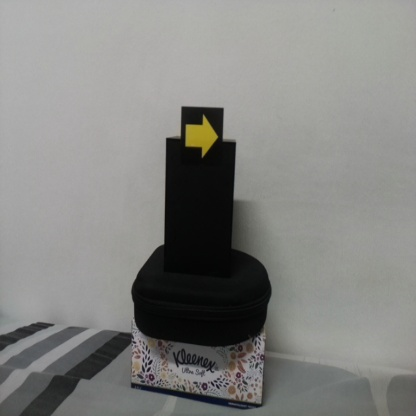id_3: (181, 106, 223, 163)
